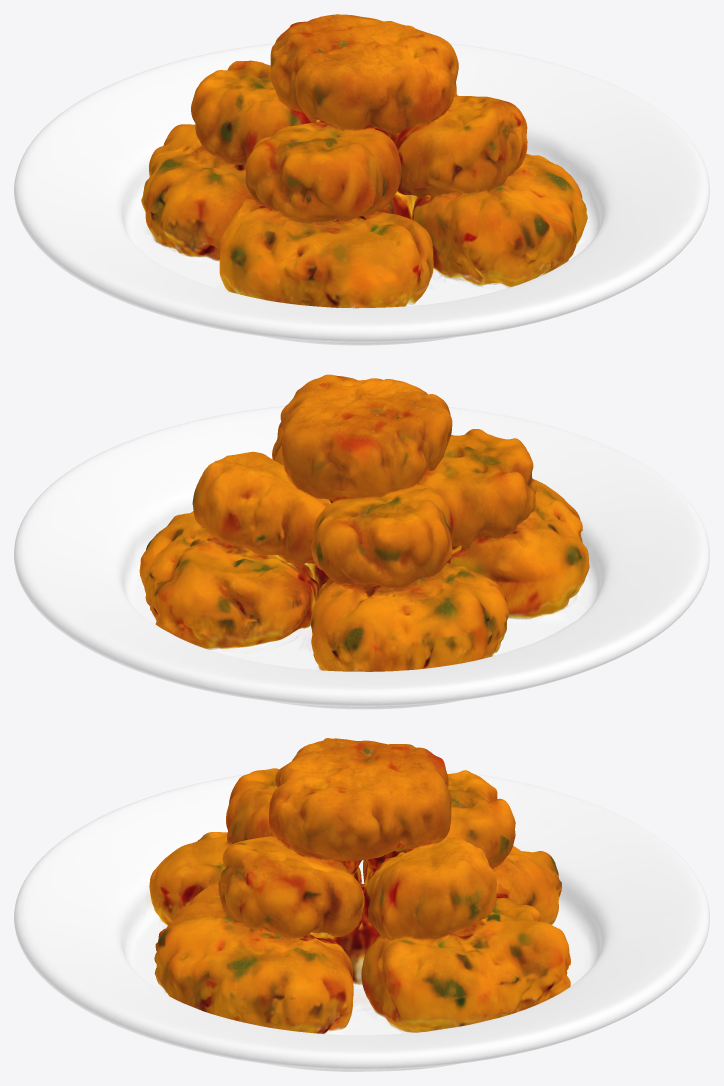
Rendered from Gâteau Piment.glb.
3 renders of one model, top to bottom at view 1: azimuth 30°, elevation 25°; view 2: azimuth 150°, elevation 25°; view 3: azimuth 270°, elevation 25°, orthographic.
Visible parts, largest first — view 1: Mesh_0.001; view 2: Mesh_0.001; view 3: Mesh_0.001.
Boxes of the visible parts, x1,y1,x2,y2 form: Mesh_0.001: [14, 14, 709, 345]; Mesh_0.001: [14, 374, 709, 709]; Mesh_0.001: [14, 738, 709, 1071].
Bounding box in the file's own units: 0.12 × 0.04 × 0.12.
1 material, 1 textured.
